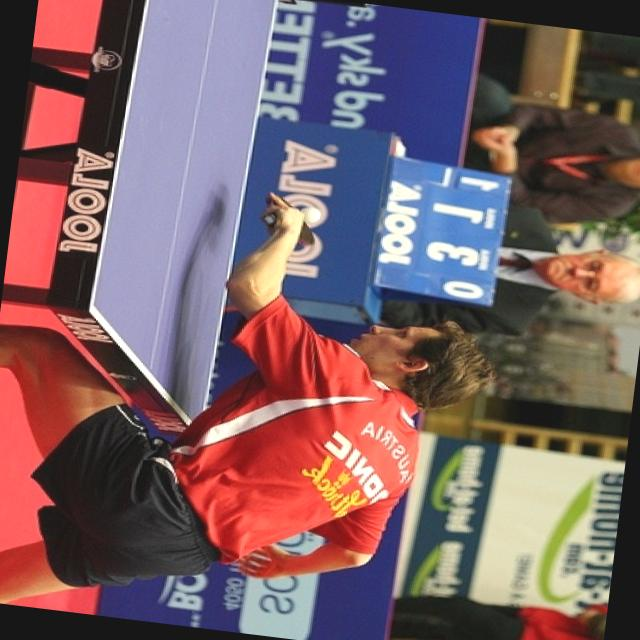TT Racket: (241, 185, 329, 256)
TT Table: (68, 0, 283, 434)
